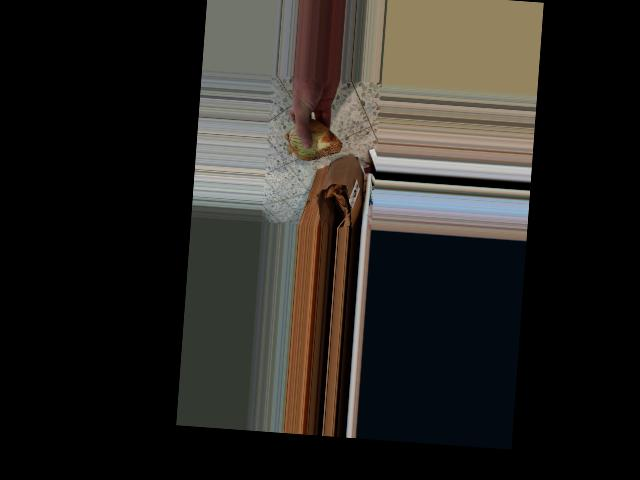onion: (284, 112, 346, 170)
